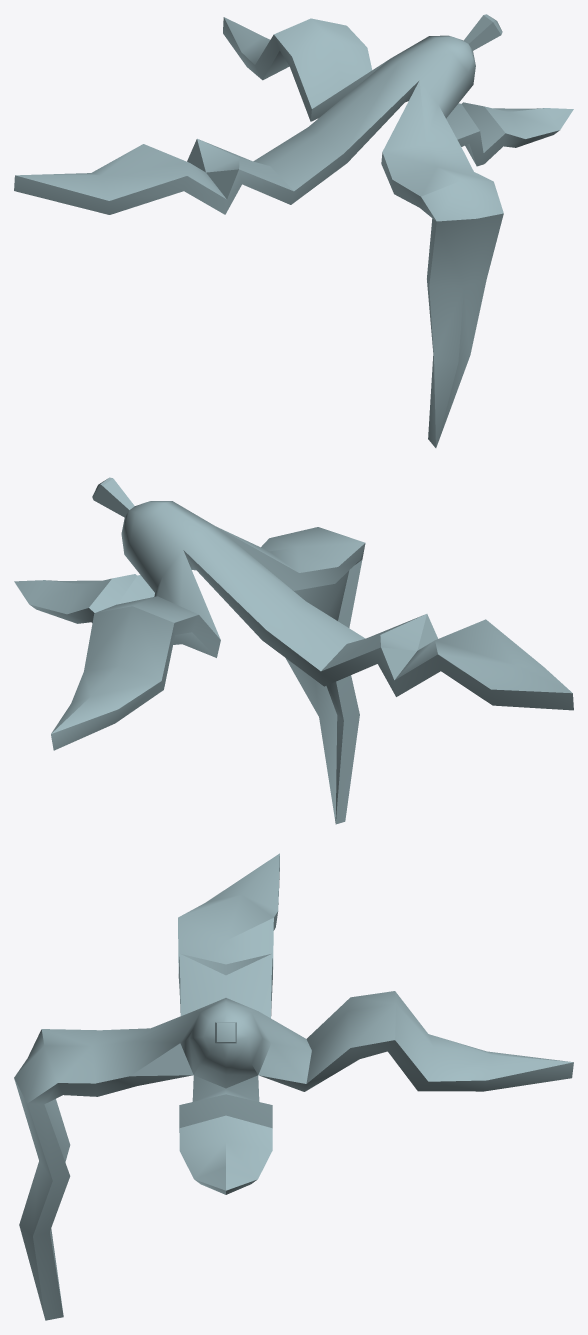
The model's file is Banana.fbx.
3 views of the same model, one above another, from view 1: azimuth 30°, elevation 25°; view 2: azimuth 150°, elevation 25°; view 3: azimuth 270°, elevation 25° (orthographic). The views are drawn at different scales.
Visible parts, largest first — view 1: Cylinder.032_0; view 2: Cylinder.032_0; view 3: Cylinder.032_0.
Boxes of the visible parts, x1,y1,x2,y2 form: Cylinder.032_0: [14, 14, 573, 447]; Cylinder.032_0: [14, 477, 573, 824]; Cylinder.032_0: [14, 853, 573, 1320].
Size of the model in its own units: 42.64 by 25.7 by 35.14.
